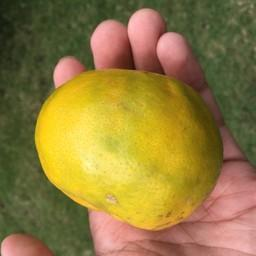Good_orange: (35, 66, 225, 228)
